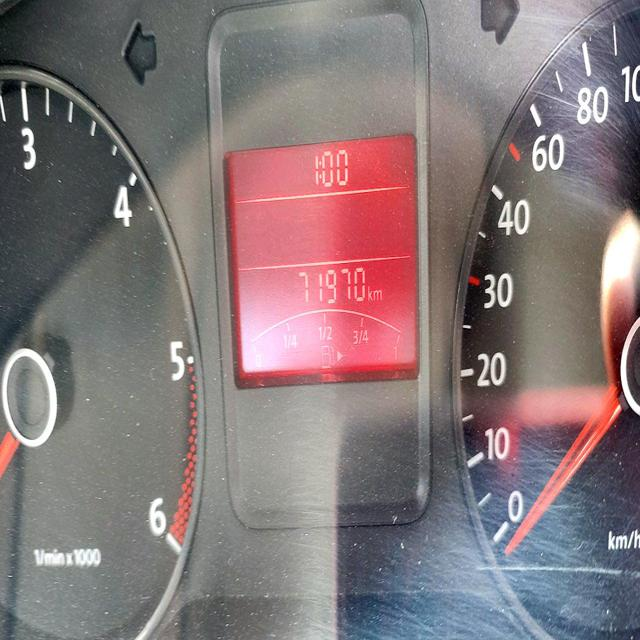odometer: (293, 261, 368, 310)
